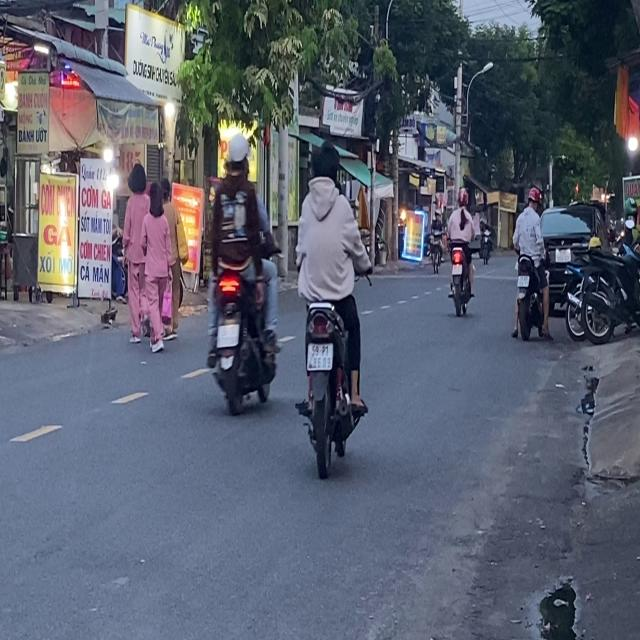helmet: (224, 131, 250, 177), (526, 185, 541, 210)
licenseplate: (291, 138, 371, 474), (203, 128, 280, 414), (511, 184, 552, 341)
motorcyclist: (308, 142, 339, 189)
nohelmet: (308, 343, 332, 370), (217, 323, 239, 348), (517, 274, 529, 286)
